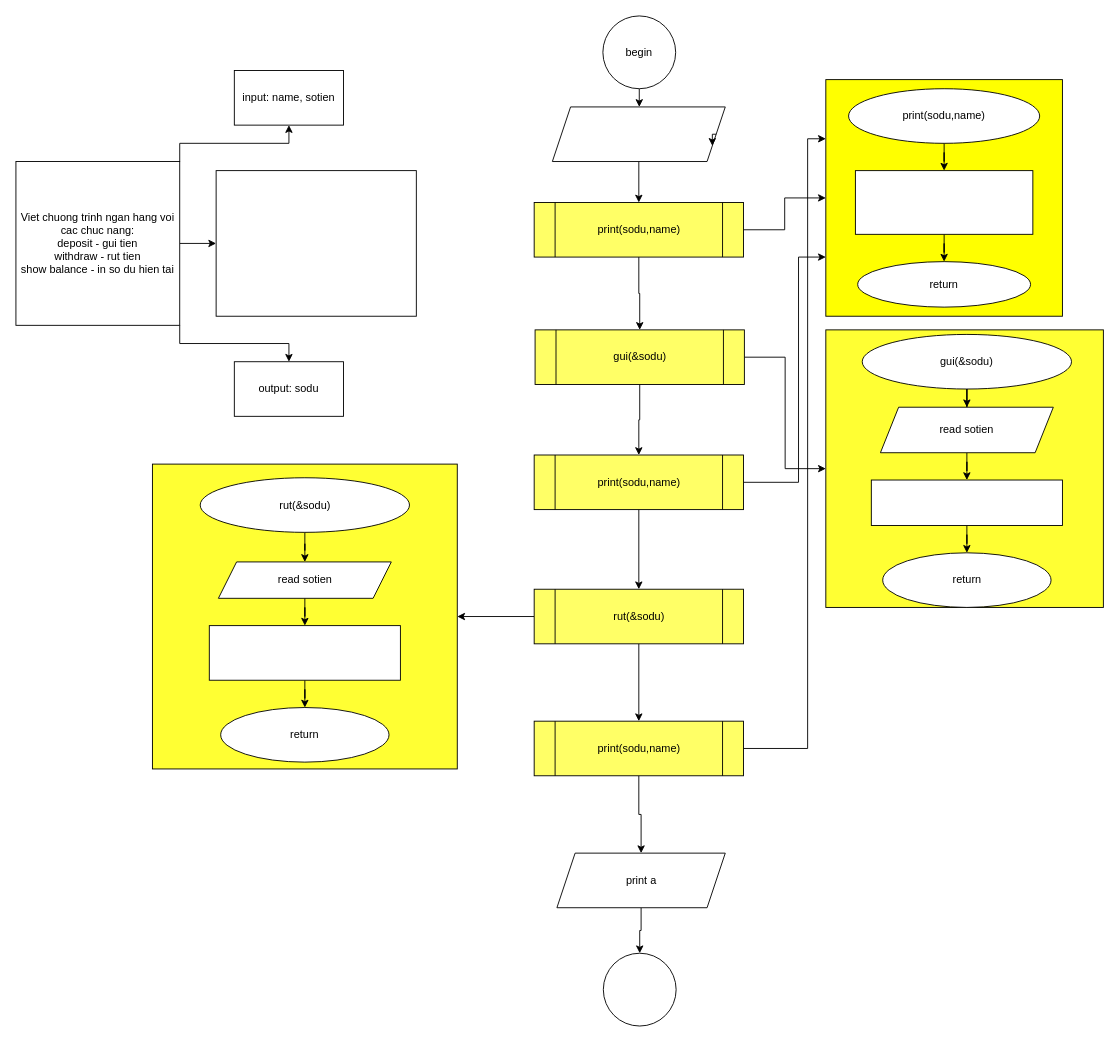
Image size: 1119x1042. Some labels were removed from this diagram. Each missing label, with the box of its shape:
*sodu=*sodu+sotien: (870, 479, 1062, 526)
*sodu=*sodu-sotien: (208, 625, 400, 680)
end: (602, 952, 676, 1026)
print name, sodu: (854, 170, 1033, 234)
process: sodu=sodu+sotien (guitien) sodu=sodu-sotien (ruttien): (215, 170, 416, 316)
read name: (551, 106, 725, 162)
